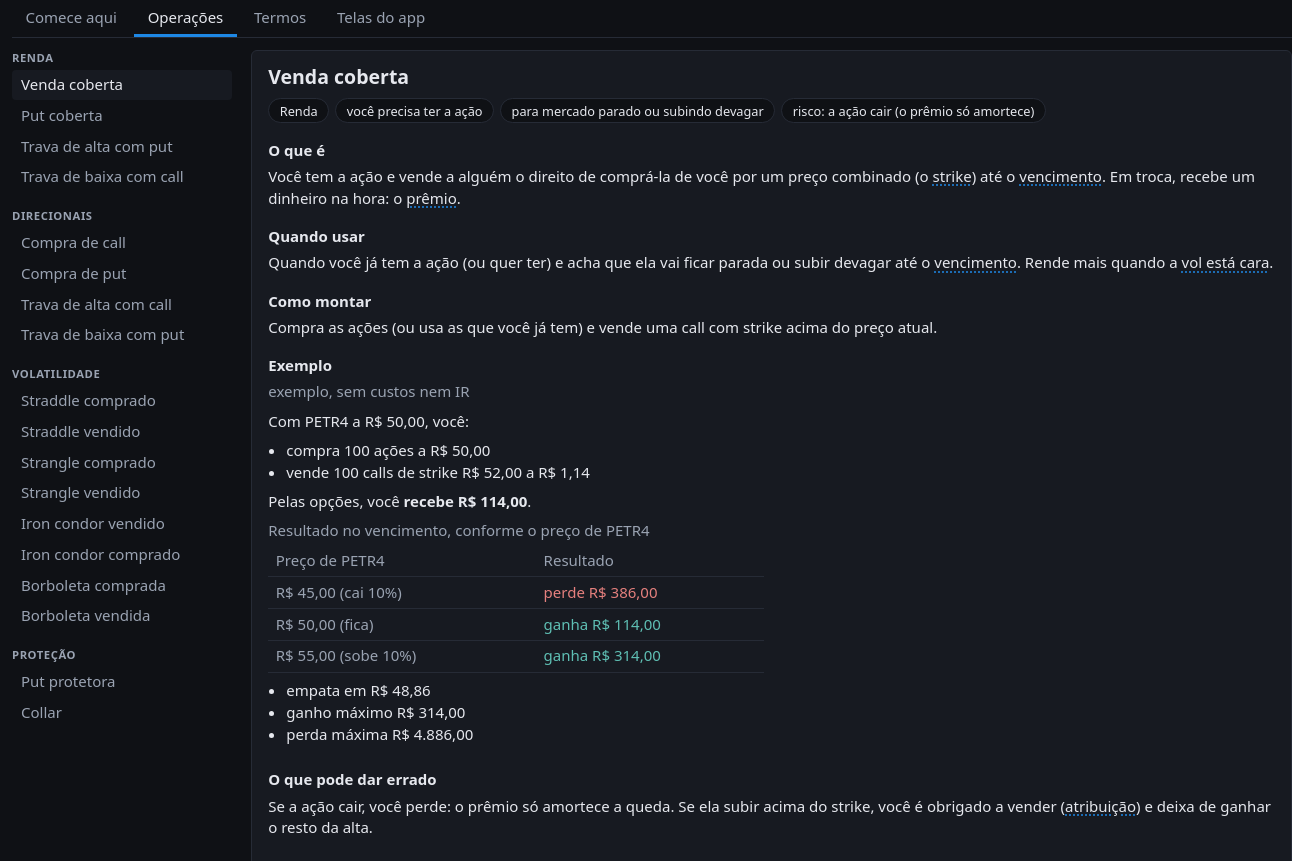
Test: clicar numa operação da lista troca o painel sem pedir os exemplos de novo
The width and height of the screenshot is (1292, 861).
Step 1. Click the link "Put coberta" → (62, 115), box x1=21 y1=105 x2=103 y2=125
(page scrolled)
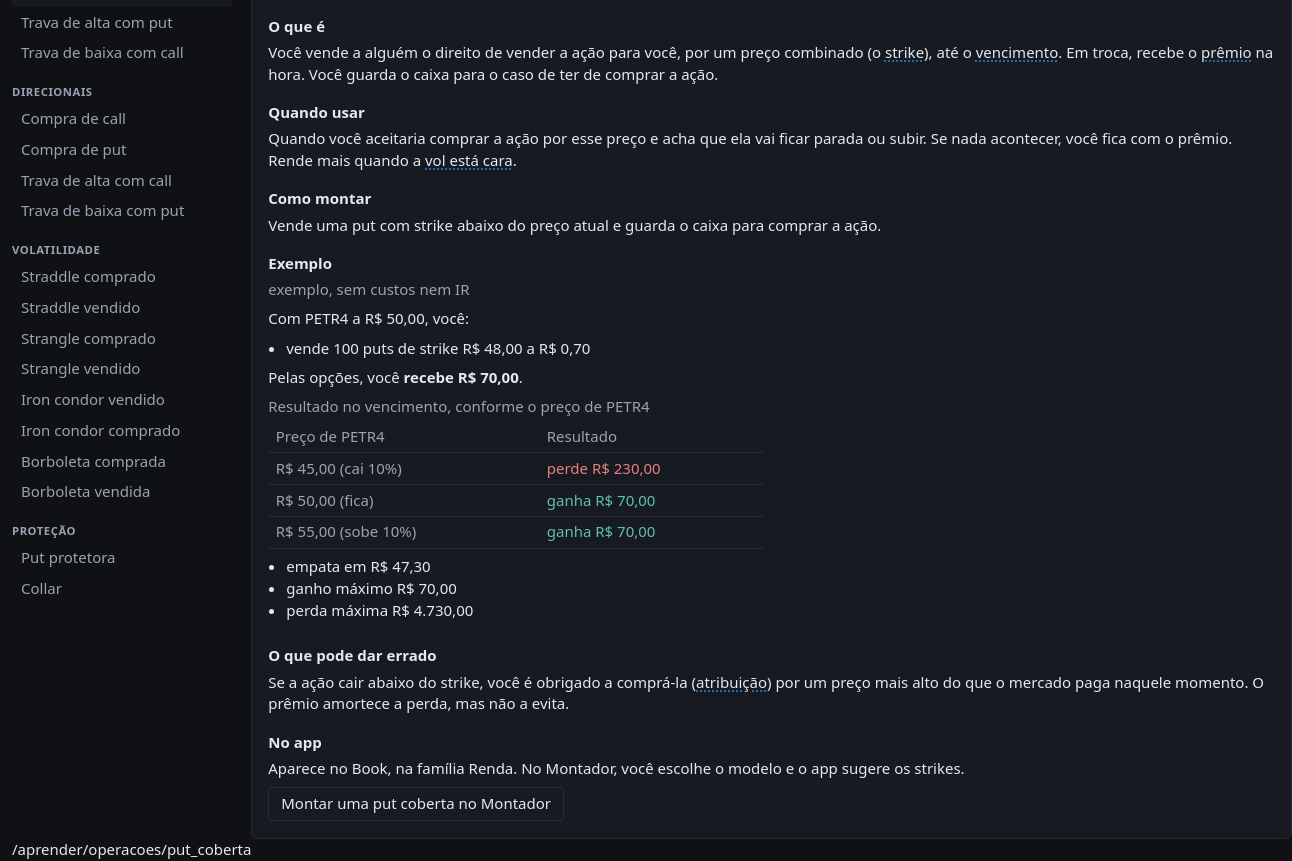
expect the text with test id "endereco" reads "/aprender/operacoes/put_coberta": met, box x1=12 y1=839 x2=251 y2=859
